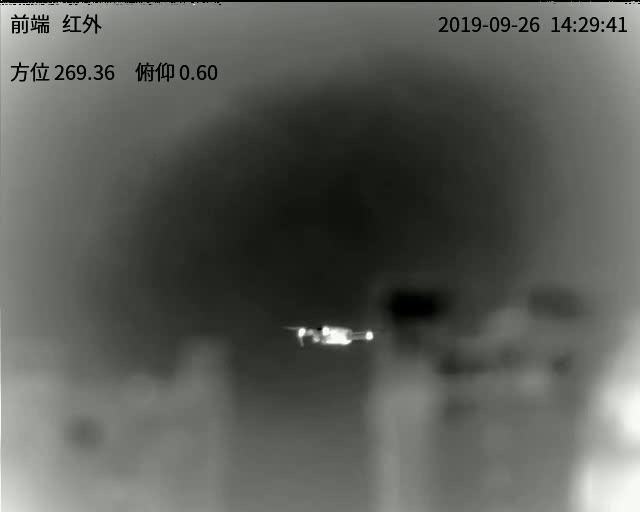DRONE: (294, 325, 375, 347)
